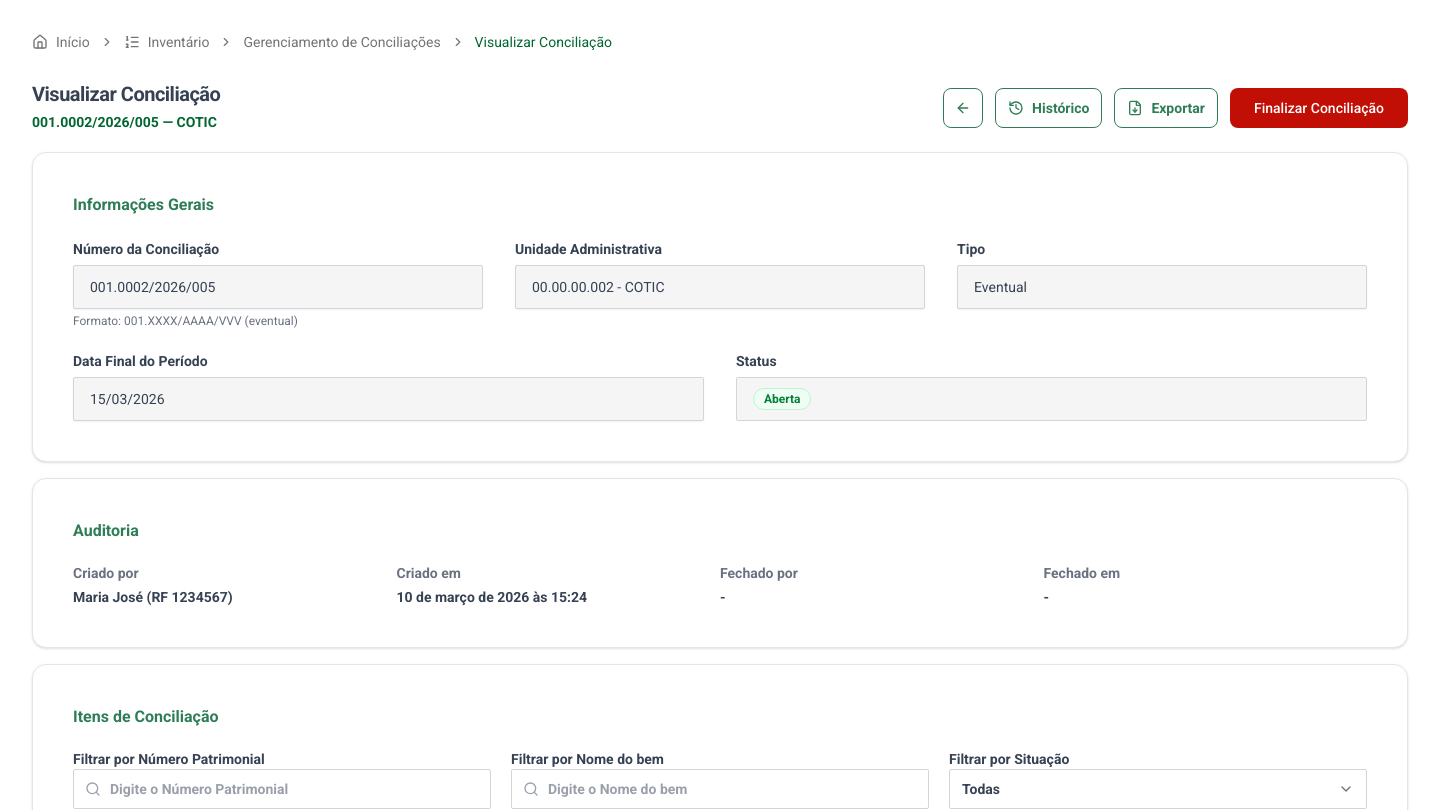
VisualizarConciliacaoPage › fecha o modal de historico ao clicar no botao de fechar
Click the button with test id "visualizar-conciliacao-historico". click: (1049,108)
box: [995,88,1102,128]
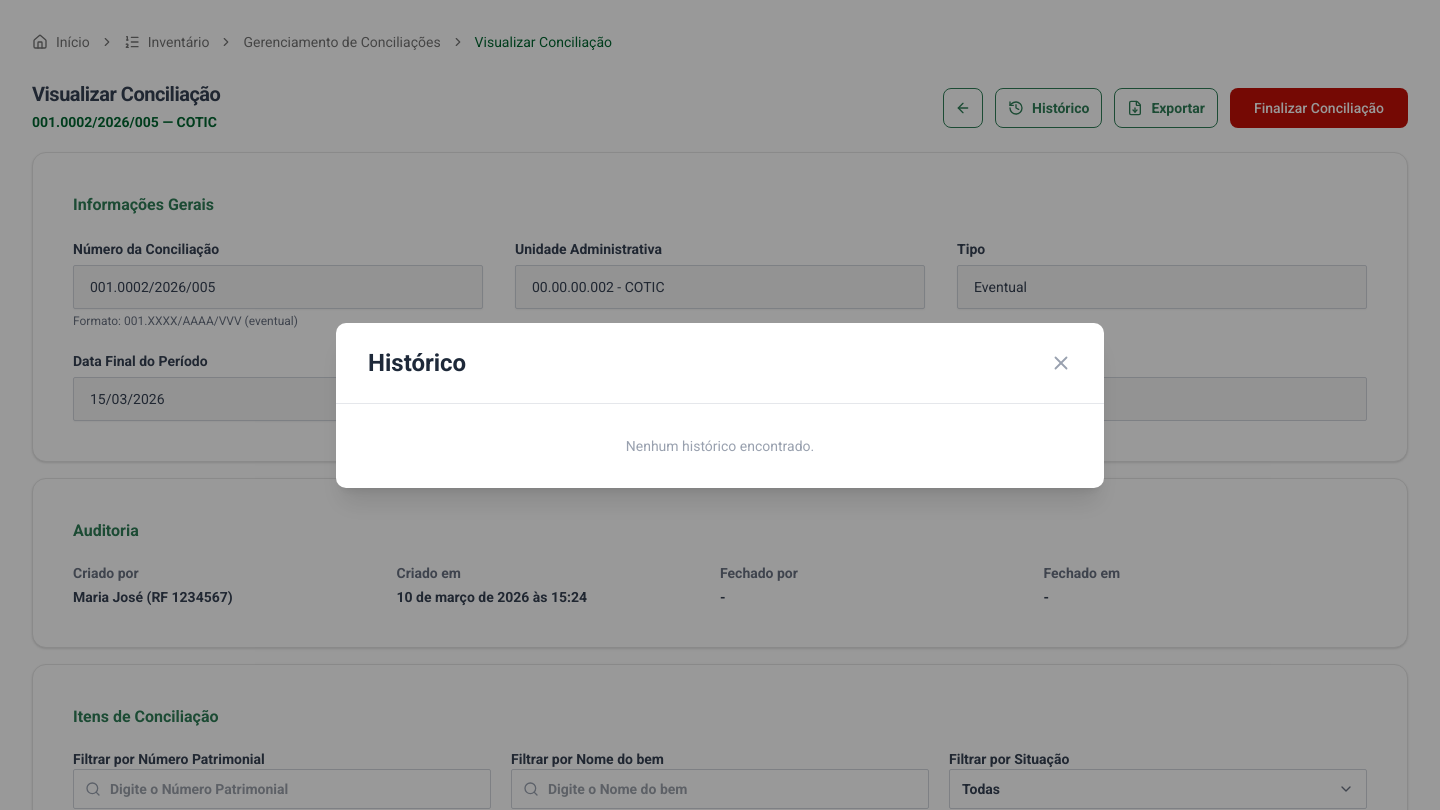
Click the button named "Fechar histórico". click: (1061,362)
box: [1050,352,1072,374]
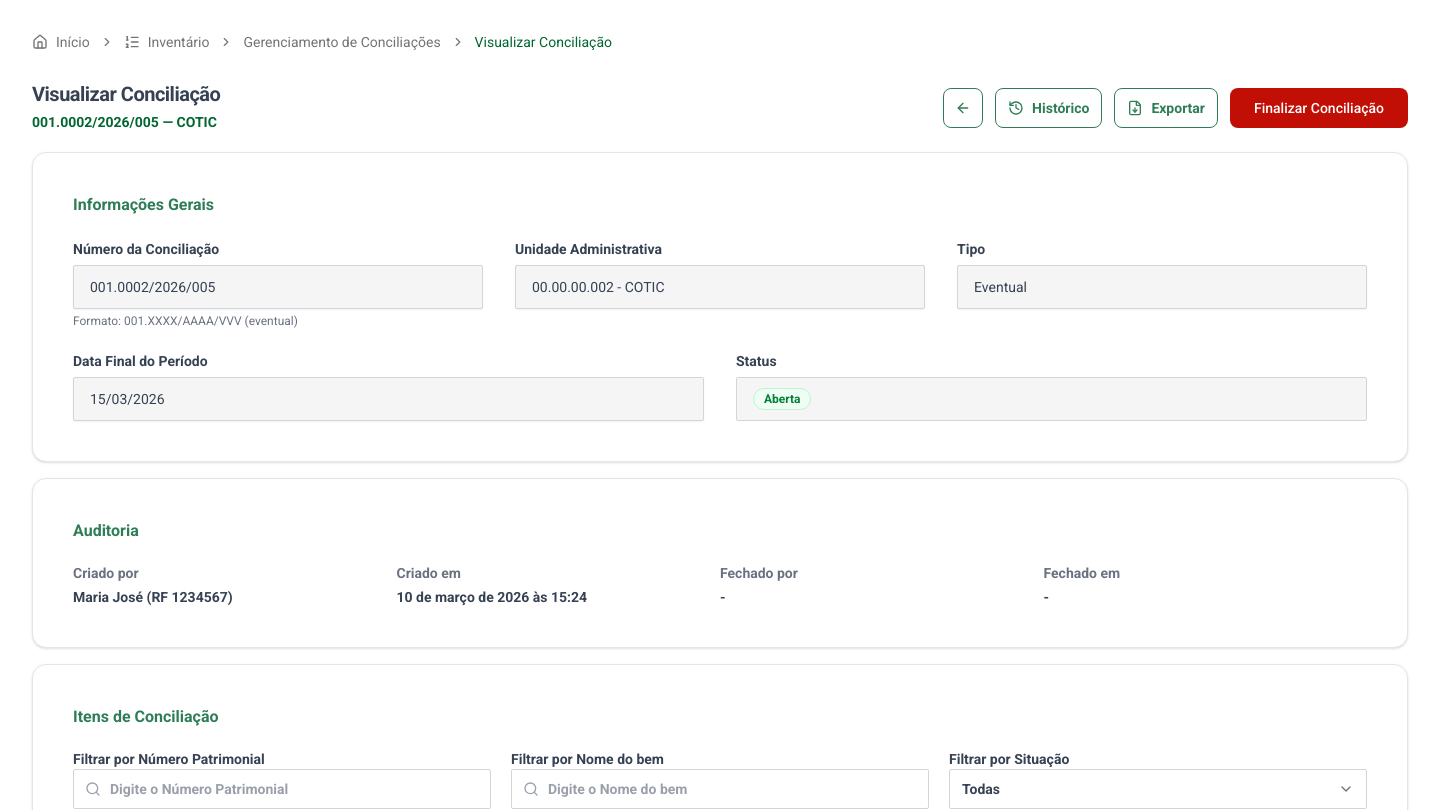
Expected: the element with test id "conciliacao-historico-modal" is gone
